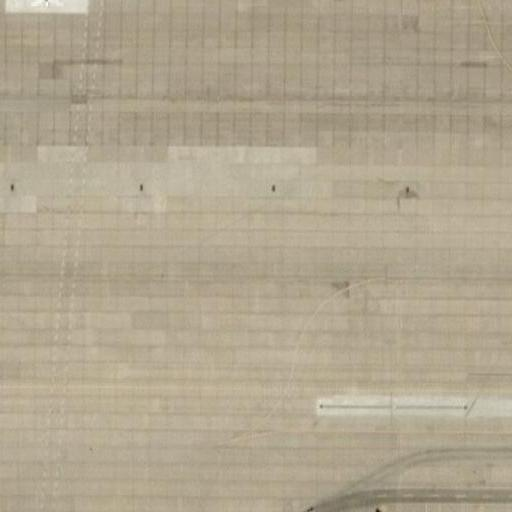Aircraft: (0, 0, 89, 10)
